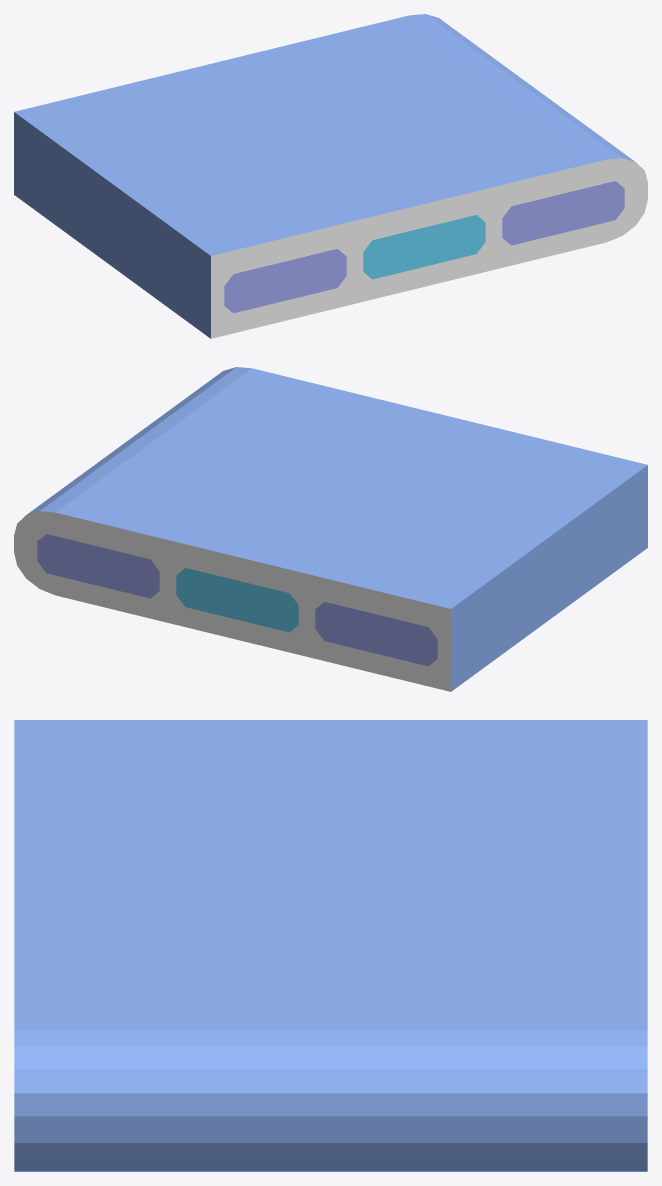
Rendered from Building_040_b.fbx.
3 renders of one model, top to bottom at view 1: azimuth 30°, elevation 25°; view 2: azimuth 150°, elevation 25°; view 3: azimuth 270°, elevation 25°, orthographic. The views are drawn at different scales.
Parts seen in each view (by area): view 1: Building_040_b; view 2: Building_040_b; view 3: Building_040_b.
Boxes of the visible parts, x1=… form: Building_040_b: x1=14, y1=14, x2=647, y2=338; Building_040_b: x1=14, y1=367, x2=647, y2=691; Building_040_b: x1=14, y1=720, x2=647, y2=1171.
Size of the model in its own units: 27 by 4.9 by 21.1.
